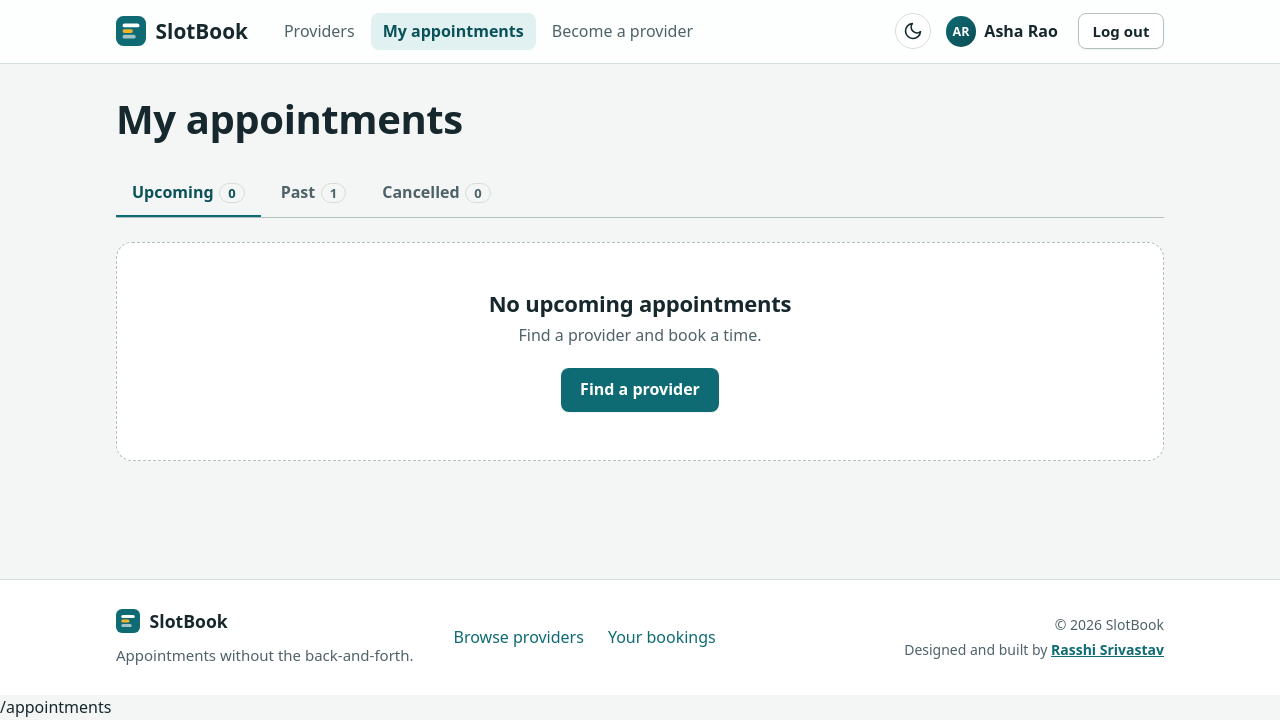
Test: reviewing a finished appointment › keeps the dialog open with the message when something else goes wrong
The image size is (1280, 720).
What coordinates should you click on to do the following:
click the tab "Past1"
I would click on:
 (313, 194)
Its box is [265,170,362,218].
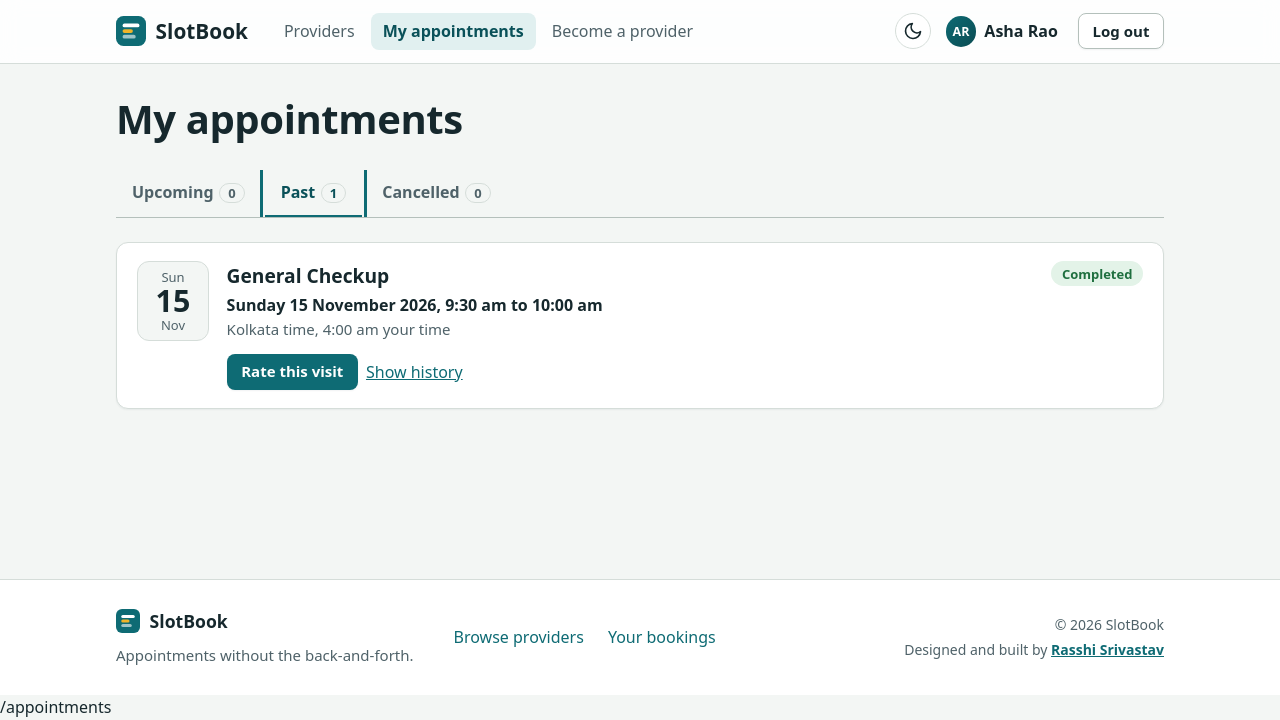
What coordinates should you click on to do the following:
click the button "Rate this visit"
I would click on:
 (292, 372)
Its box is [227,354,358,390].
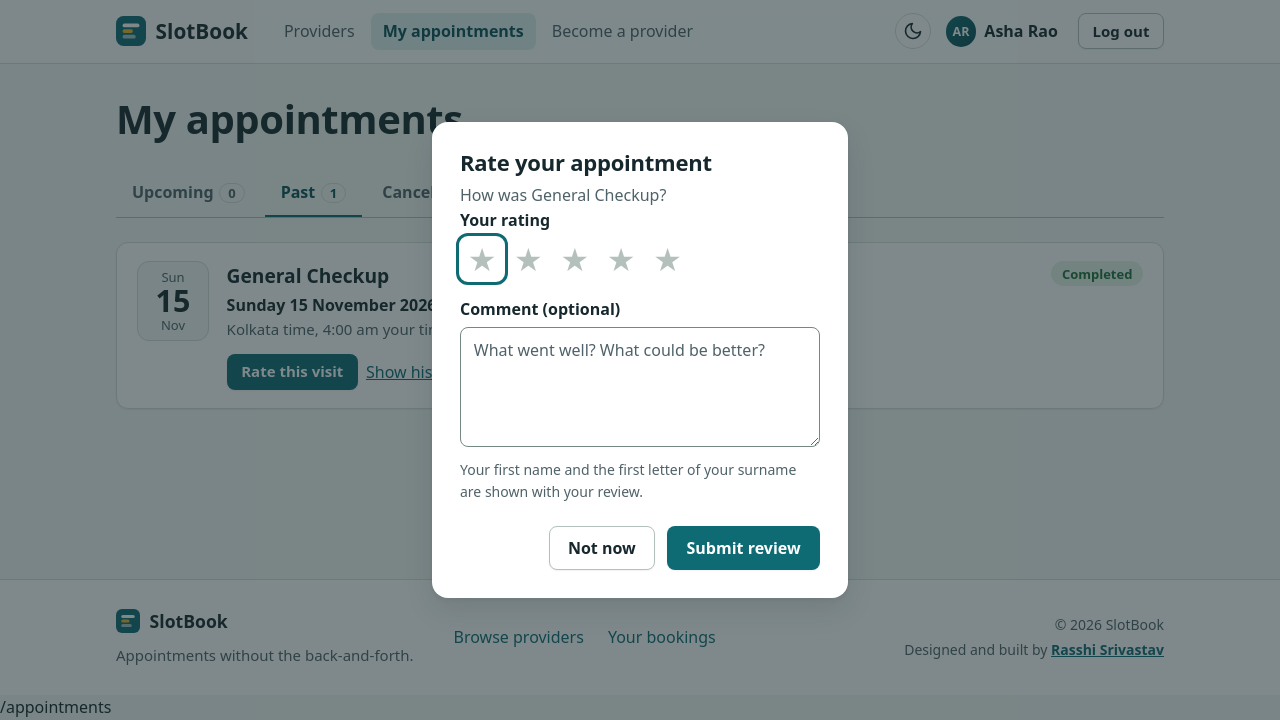
What coordinates should you click on to do the following:
click the radio button named "3 stars, Good"
I would click on:
 (576, 267)
Its box is [560,237,593,296].
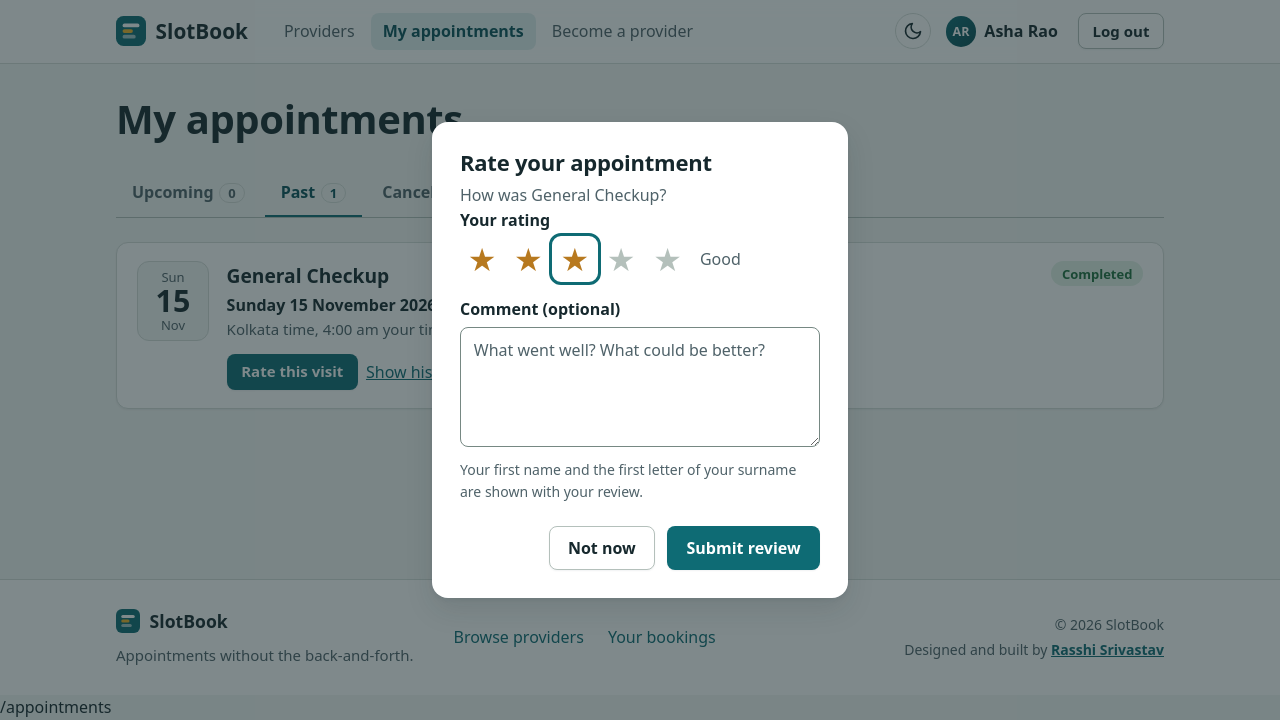
What coordinates should you click on to do the following:
click the button "Submit review"
I would click on:
 (744, 548)
Its box is [667,526,820,570].
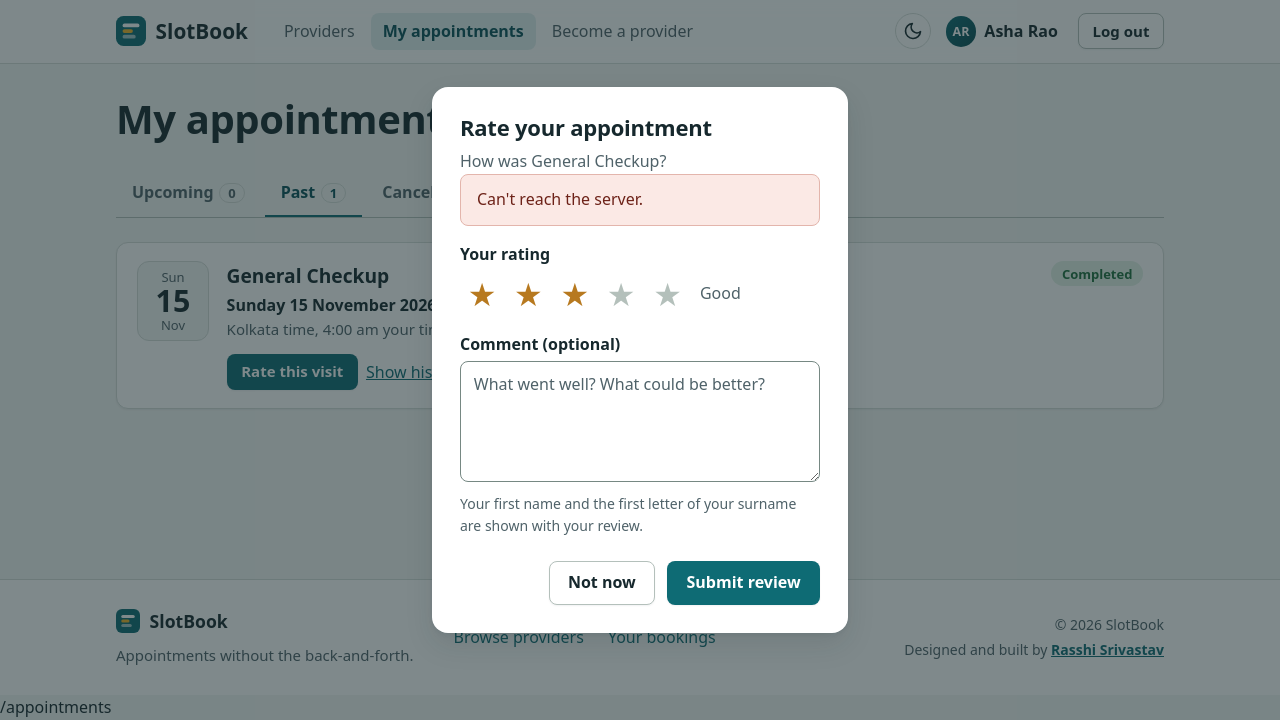
Now the radio button named "3 stars, Good" is checked, box [560,272,593,330]
Now the message shows "Can't reach the server", box [477,188,643,210]
